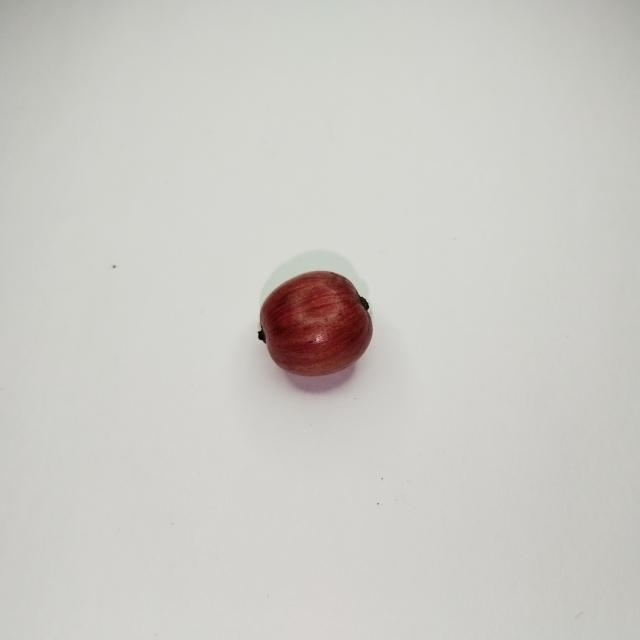Sano: (261, 273, 371, 375)
